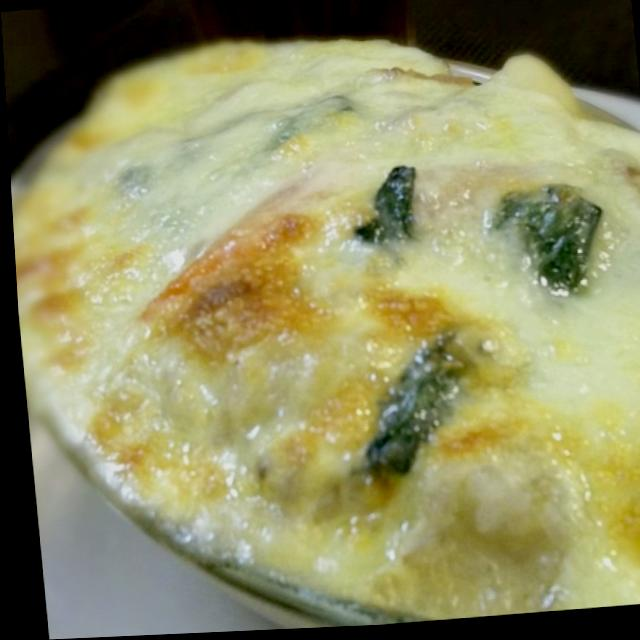米饭主食: (4, 0, 640, 640)
